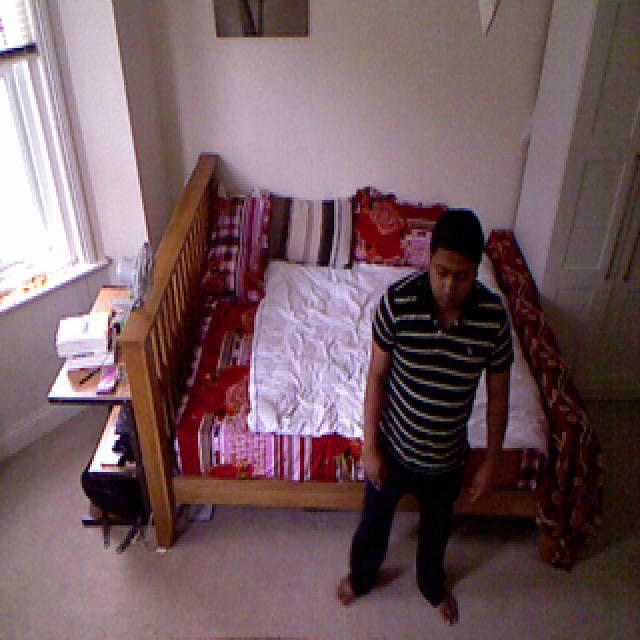standing: (340, 198, 519, 632)
